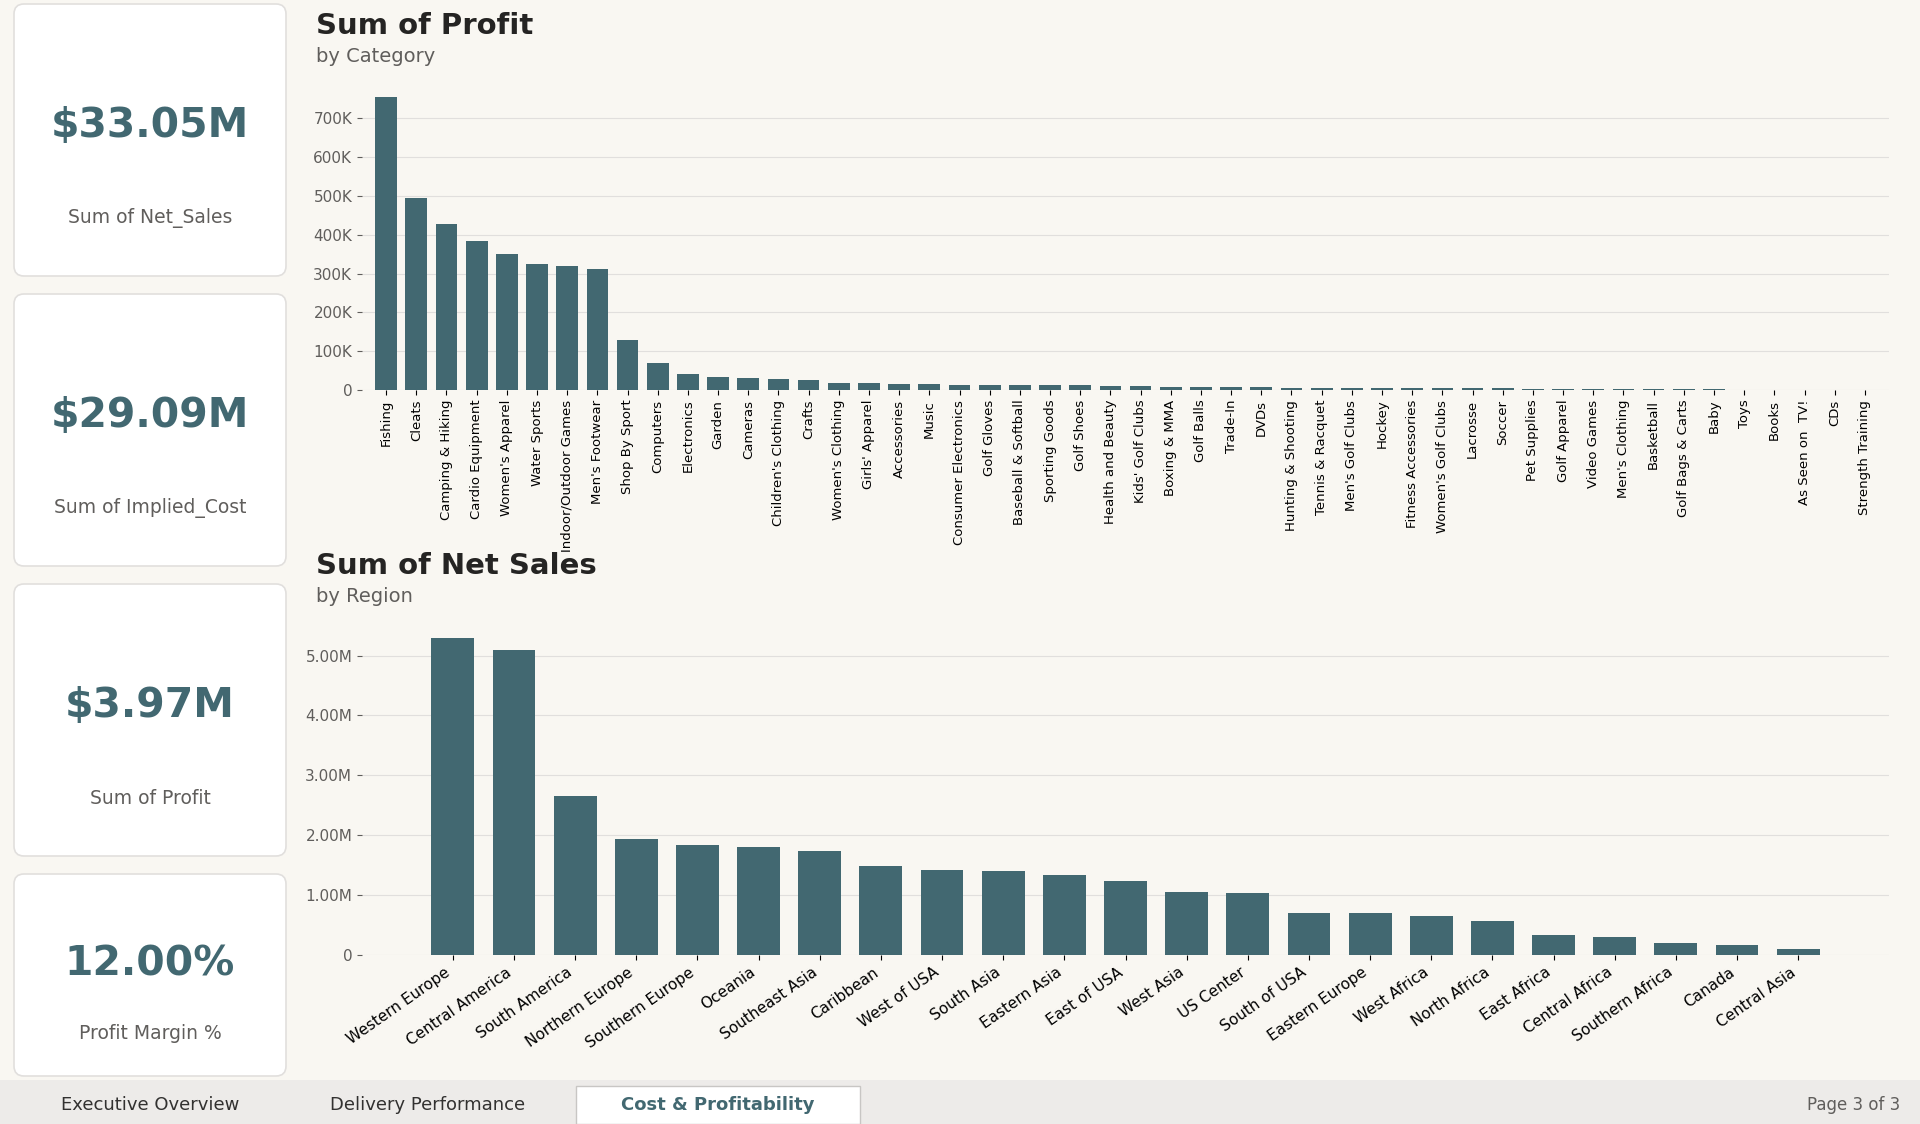

Layout of this report page (visuals, bound fields, positions):
{"tool":"powerbi","page":{"name":"Cost & Profitability","canvas":[1920,1080],"ordinal":2},"visuals":[{"type":"cardVisual","fields":{"Data":["Sum(Fact_OrderItems.Net_Sales)"]},"box":[10,106,280,214],"z":0},{"type":"cardVisual","fields":{"Data":["Sum(Fact_OrderItems.Implied_Cost)"]},"box":[10,336,280,220],"z":1000},{"type":"cardVisual","fields":{"Data":["Sum(Fact_OrderItems.Profit)"]},"box":[10,580,280,280],"z":2000},{"type":"cardVisual","fields":{"Data":["Sum(Fact_OrderItems.Profit Margin %)"]},"box":[10,870,280,210],"z":3000},{"type":"columnChart","fields":{"Category":["Fact_OrderItems.Category"],"Y":["Sum(Fact_OrderItems.Profit)"]},"box":[302,106,1618,494],"z":4000},{"type":"columnChart","title":"Sum of Net Sales","fields":{"Category":["Fact_OrderItems.Region"],"Y":["Sum(Fact_OrderItems.Net_Sales)"]},"box":[302,600,1618,480],"z":5000},{"type":"textbox","box":[10,16,1144,68],"z":5001}]}

Visuals, with their boxes on the page's 1920x1080 design canvas (x1, y1, x2, y2). These are canvas units, not pixel positions in the 1920x1124 screenshot, which may show the page scaled, cropped or inside an application window:
cardVisual - Sum(Fact_OrderItems.Net_Sales): 10 106 290 320
cardVisual - Sum(Fact_OrderItems.Implied_Cost): 10 336 290 556
cardVisual - Sum(Fact_OrderItems.Profit): 10 580 290 860
cardVisual - Sum(Fact_OrderItems.Profit Margin %): 10 870 290 1080
columnChart - Fact_OrderItems.Category x Sum(Fact_OrderItems.Profit): 302 106 1920 600
"Sum of Net Sales" columnChart: 302 600 1920 1080
textbox: 10 16 1154 84
